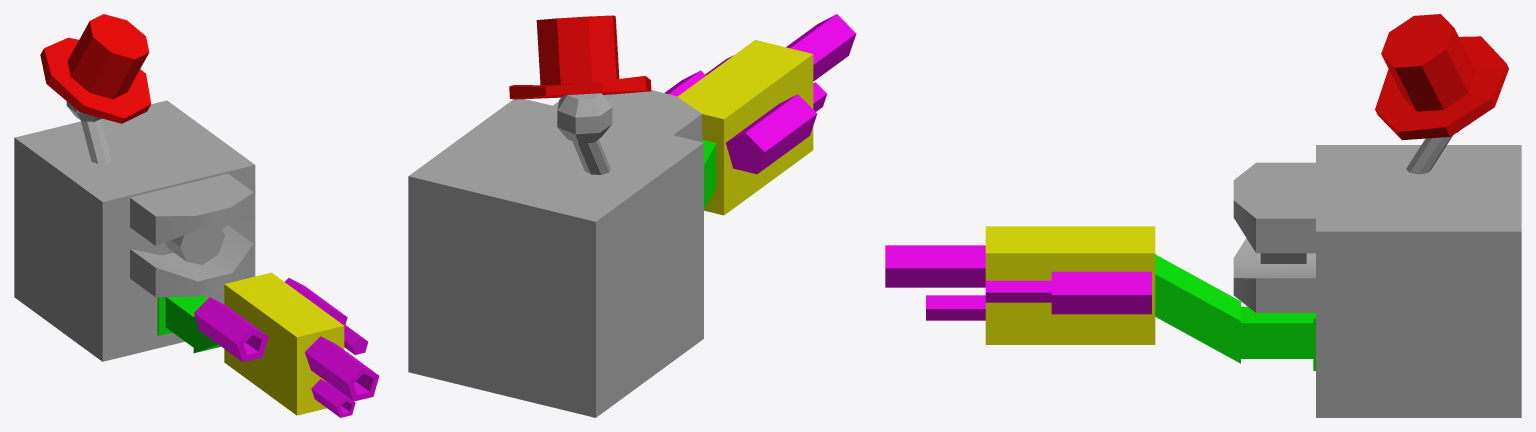
Rendered from TurretLad.fbx.
3 renders of one model, left to right at view 1: azimuth 30°, elevation 25°; view 2: azimuth 150°, elevation 25°; view 3: azimuth 270°, elevation 25°, orthographic. The views are drawn at different scales.
Parts seen in each view (by area): view 1: Turret_Head, GunArm; view 2: Turret_Head, GunArm; view 3: Turret_Head, GunArm.
Boxes of the visible parts, x1,y1,x2,y2 form: Turret_Head: [14, 14, 255, 361]; GunArm: [157, 272, 379, 417]; Turret_Head: [408, 15, 703, 417]; GunArm: [665, 14, 856, 215]; Turret_Head: [1233, 14, 1521, 417]; GunArm: [885, 226, 1315, 370].
Size of the model in its own units: 0.2737 by 0.4854 by 0.8225.
